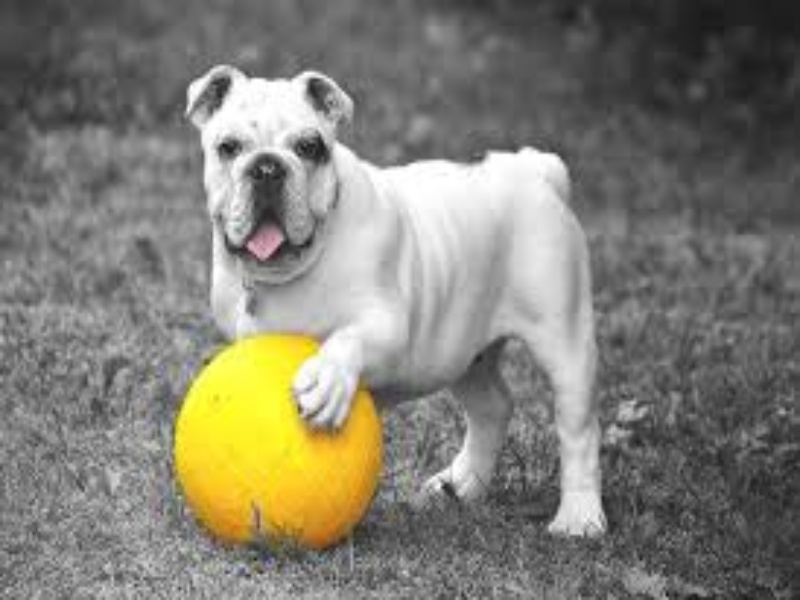dog: (115, 33, 661, 544)
